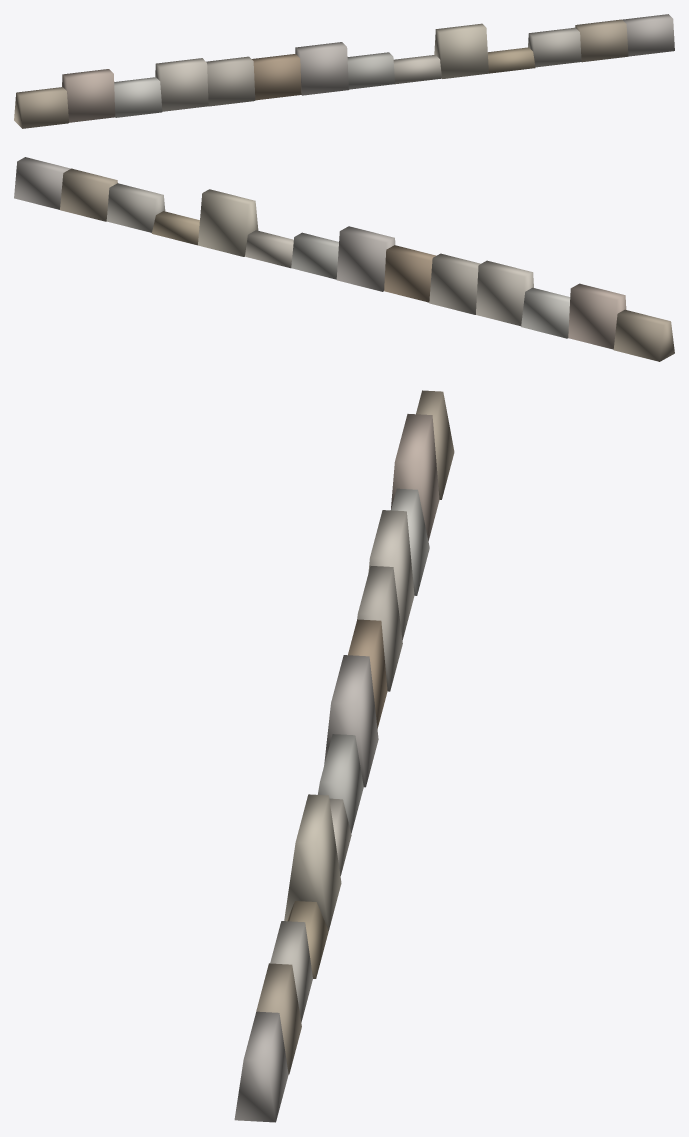
The model's file is farm_2_-3_collision.glb.
3 renders of one model, top to bottom at view 1: azimuth 30°, elevation 25°; view 2: azimuth 150°, elevation 25°; view 3: azimuth 270°, elevation 25°, orthographic. The views are drawn at different scales.
Parts seen in each view (by area): view 1: geometry_0; view 2: geometry_0; view 3: geometry_0.
Part boxes in pixels (left/top/right/bottom): geometry_0: left=14, top=14, right=674, bottom=128; geometry_0: left=14, top=157, right=674, bottom=361; geometry_0: left=234, top=390, right=454, bottom=1122.
Size of the model in its own units: 22.19 by 2.7 by 3.46.
